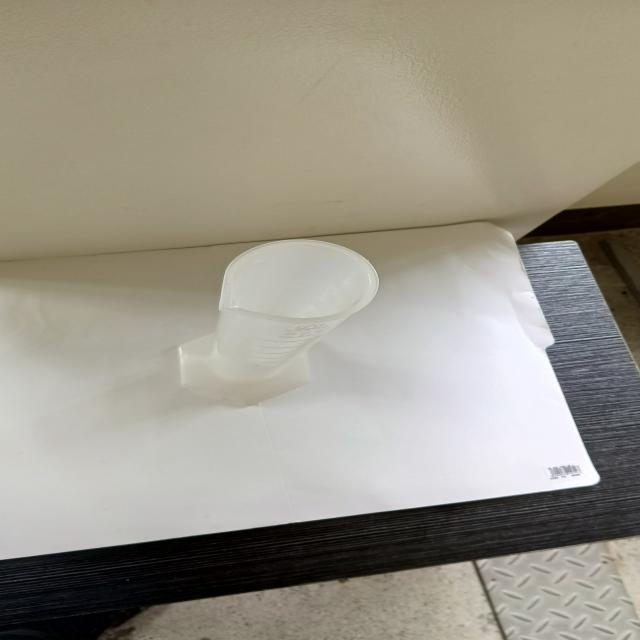graduated_cylinder: (171, 232, 385, 410)
